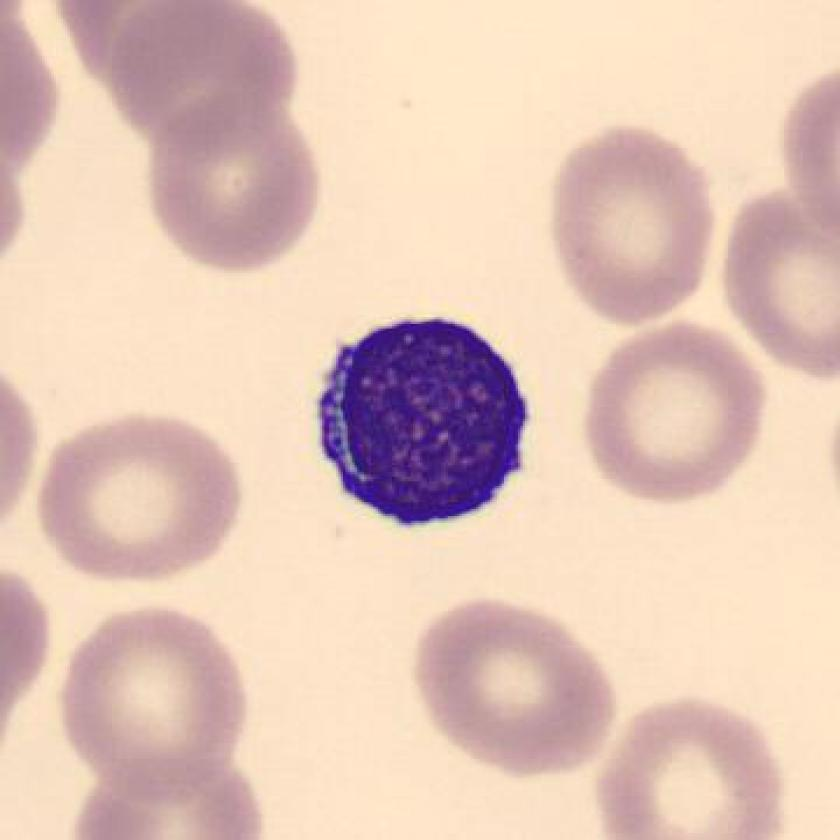lymphocyte: (302, 302, 547, 545)
